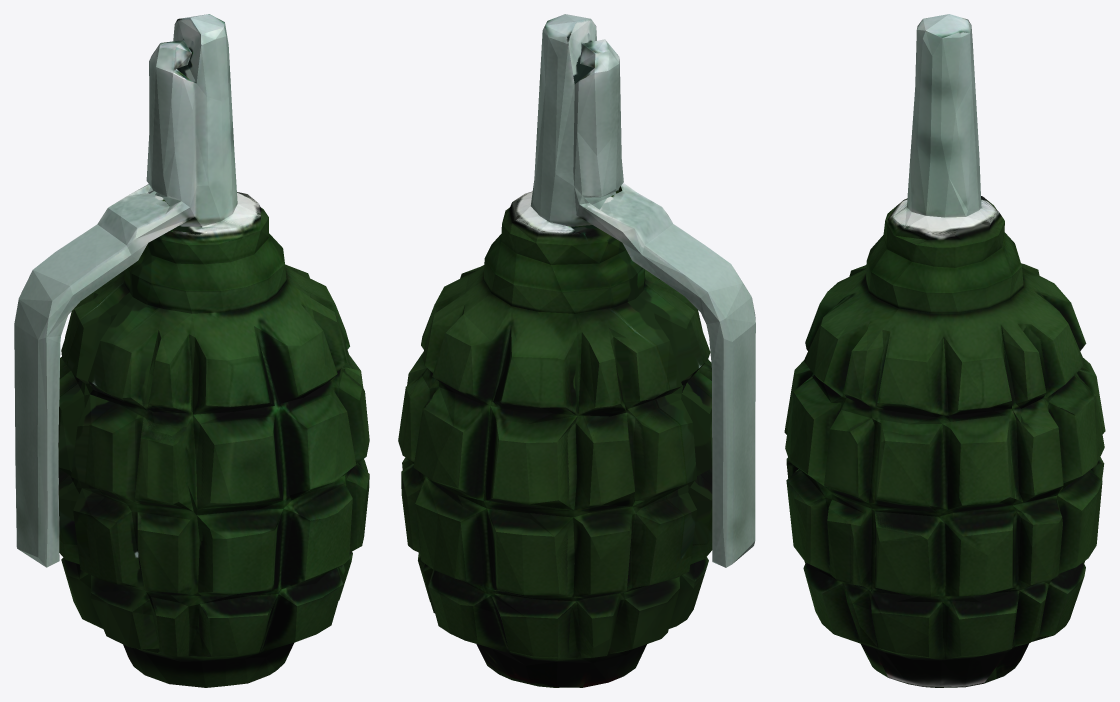
The model's file is Grenade.fbx.
The picture shows the model from 3 angles, left to right: view 1: azimuth 30°, elevation 25°; view 2: azimuth 150°, elevation 25°; view 3: azimuth 270°, elevation 25°; orthographic projection.
Parts seen in each view (by area): view 1: temp_mesh.ply; view 2: temp_mesh.ply; view 3: temp_mesh.ply.
Part boxes in pixels (box(x1,y1,x2,y2)): temp_mesh.ply: box(14, 14, 369, 687); temp_mesh.ply: box(398, 14, 755, 687); temp_mesh.ply: box(784, 14, 1105, 687).
Bounding box in the file's own units: 104 × 198 × 90.78.
Materials: 1 (1 with a texture image).
